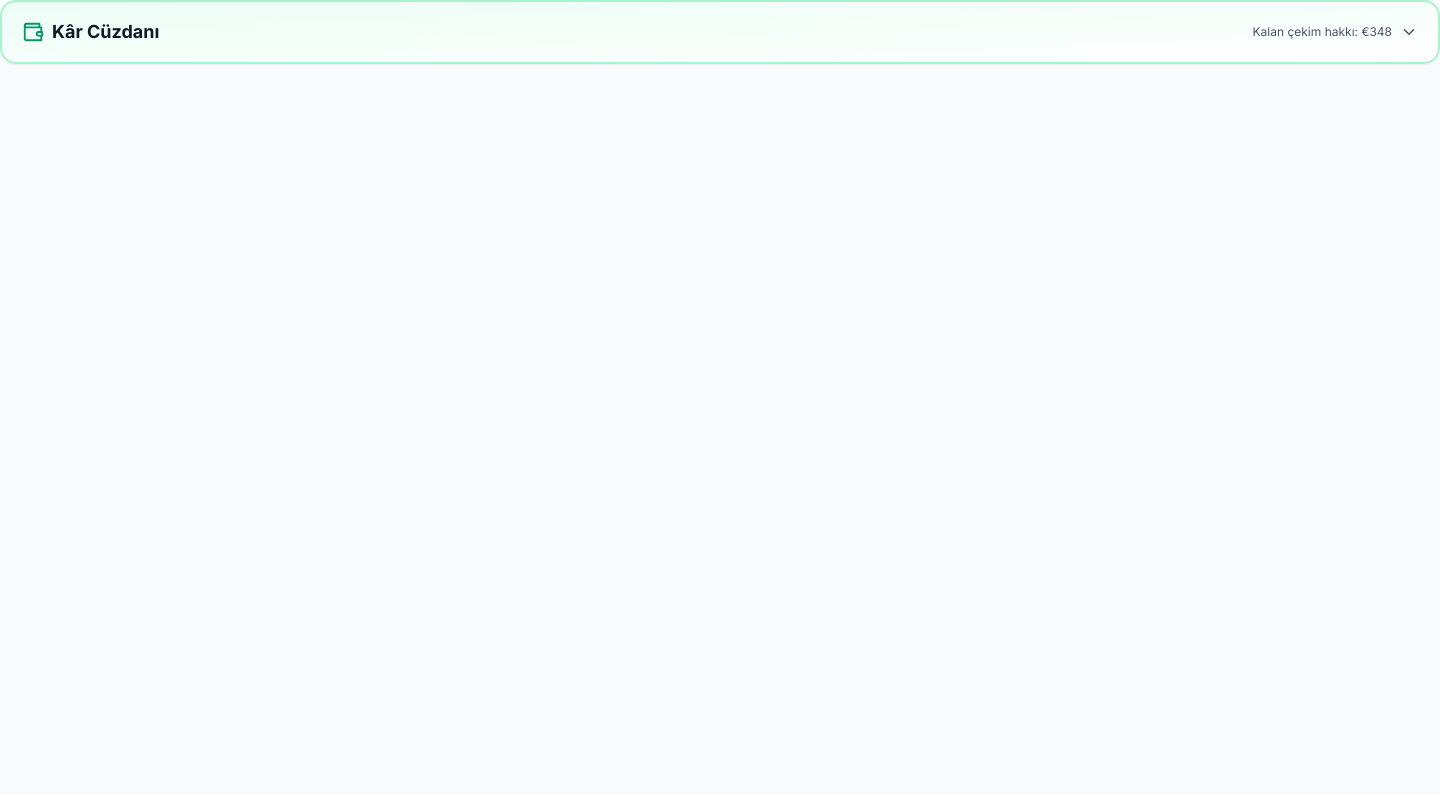
Scenario: maaş ekranları sessiz yenilenir › başlık açar/kapatır; tercih yeniden açılışta ve arka plan yenilemesinde korunur
Later steps or results of the test are not shown.
Click the button "Kâr Cüzdanı Kalan çekim hakkı: €348" at (106, 32), box [2,2,1438,62]
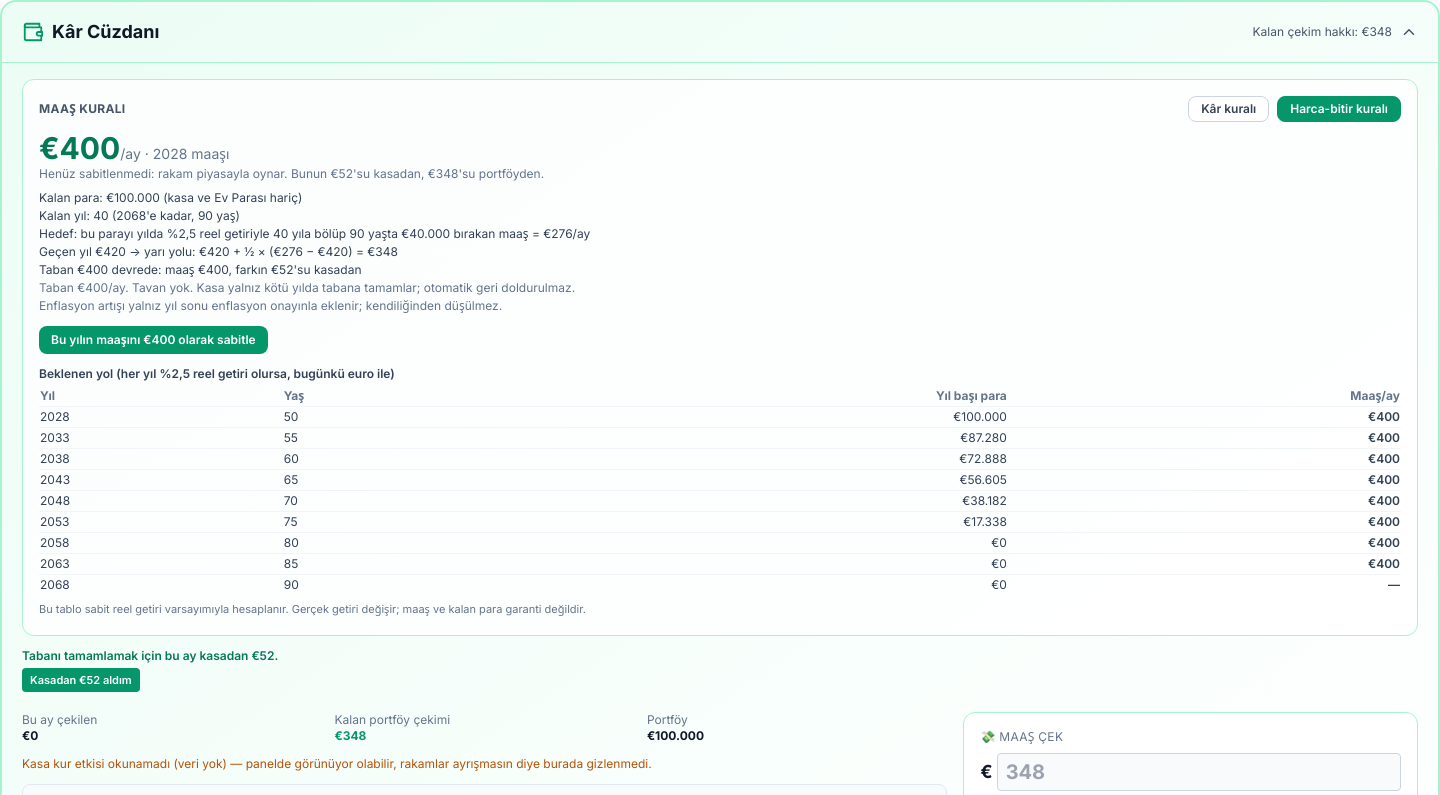
Expected: the number field is shown, [997,753,1401,791]
